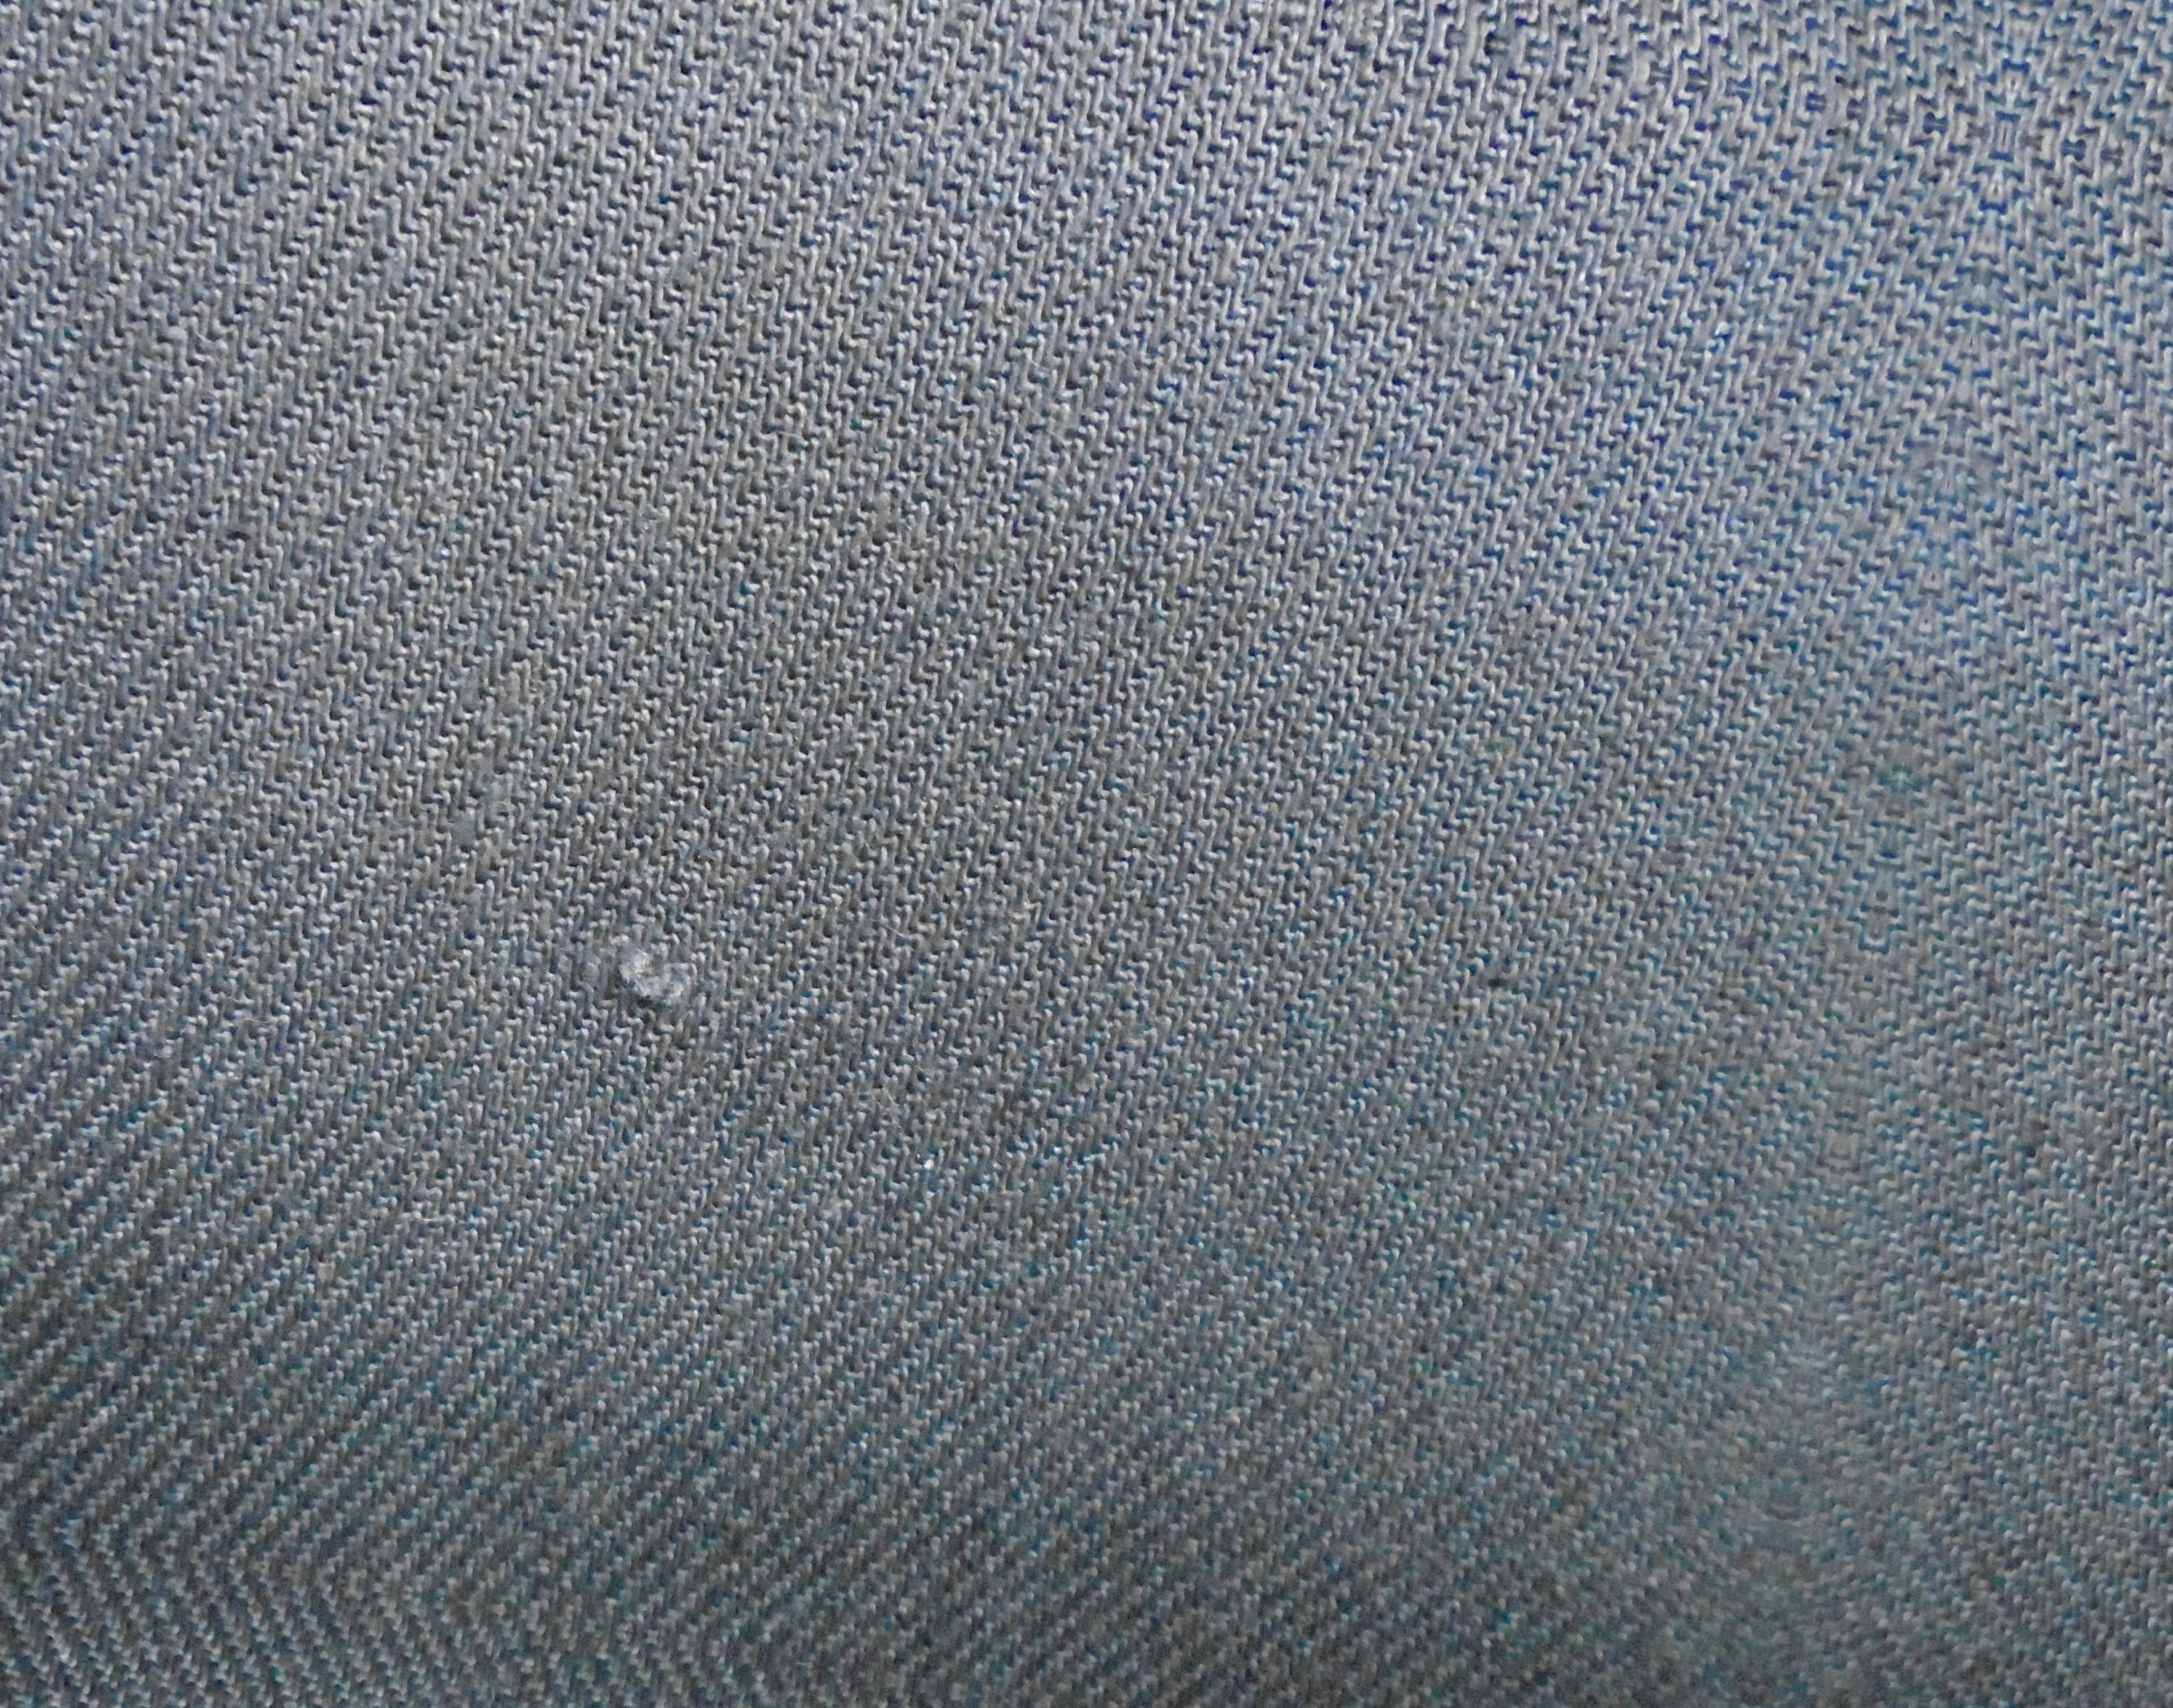knot: (577, 932, 739, 1050)
